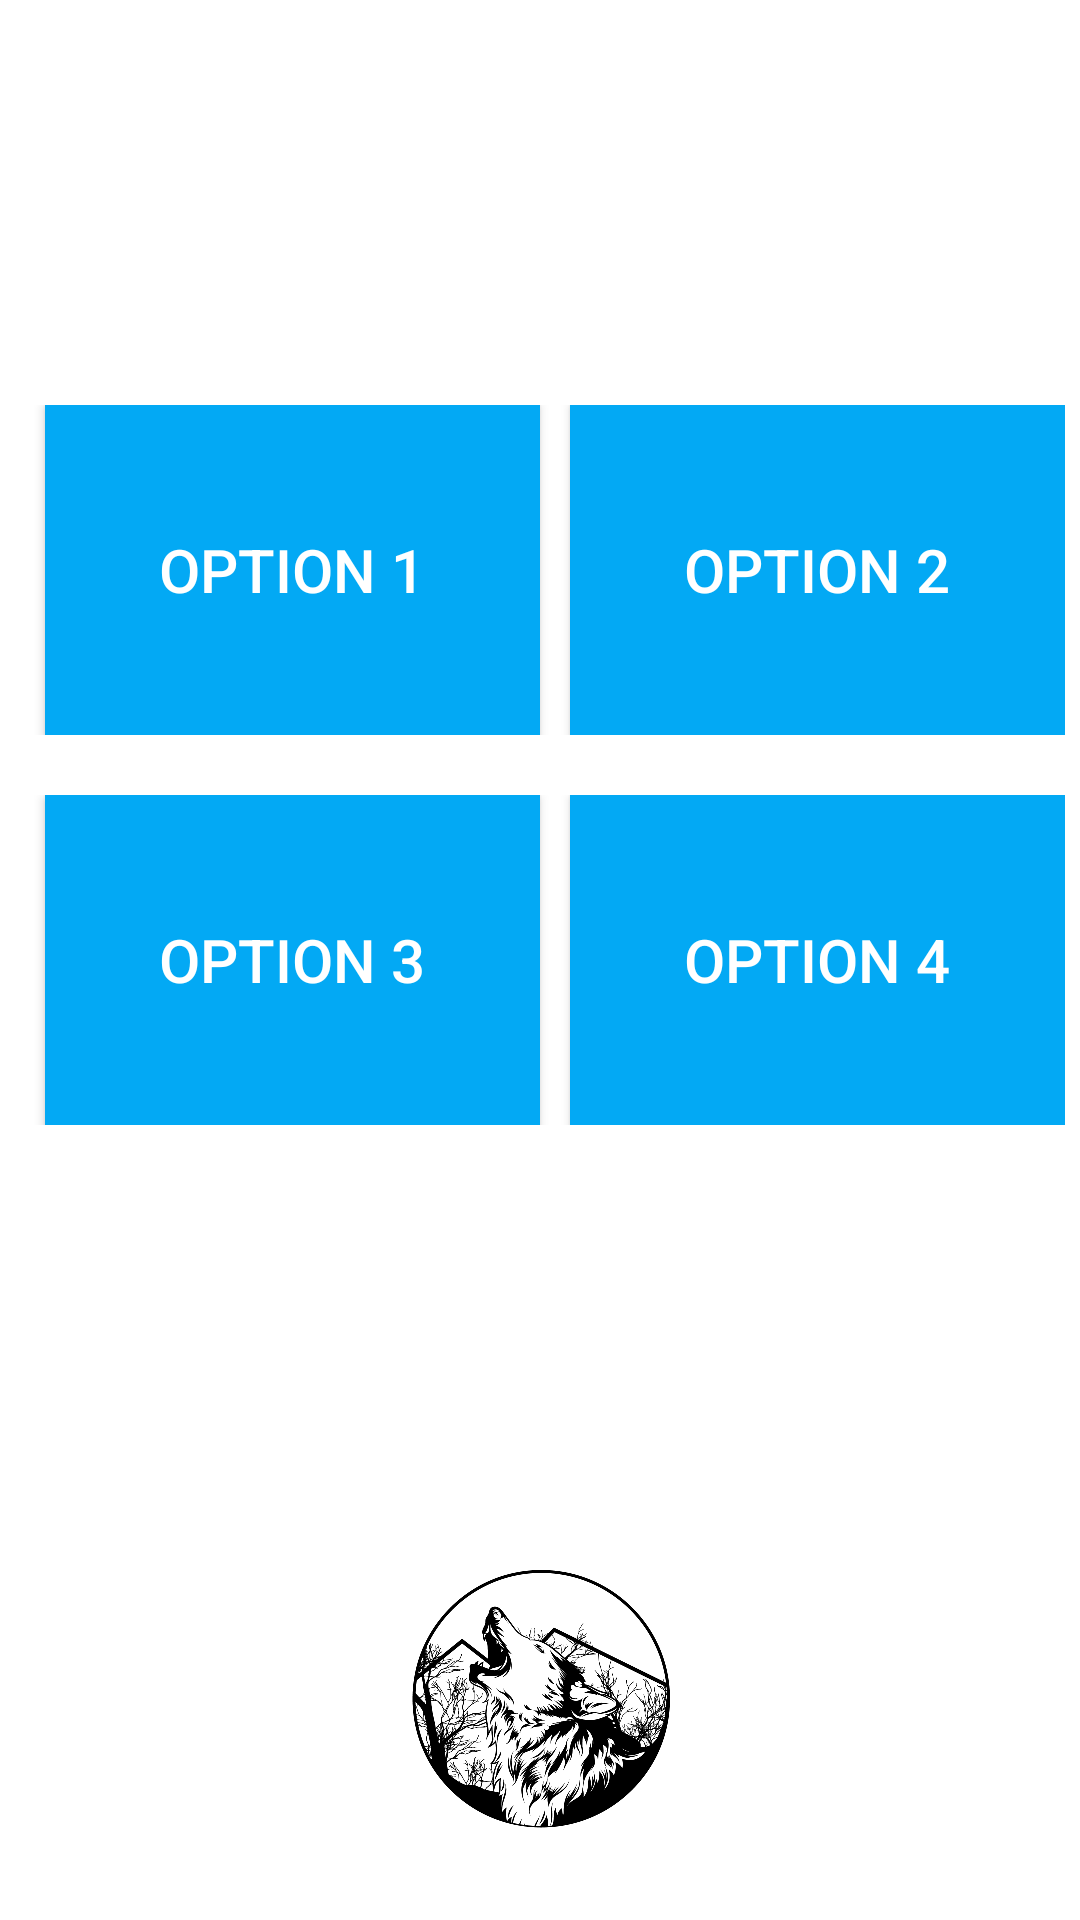

Icon bounding boxes for this 1080x1920 phone screenshot, format (x1, y1, x2, y2):
wolf: (412, 1570, 670, 1828)
